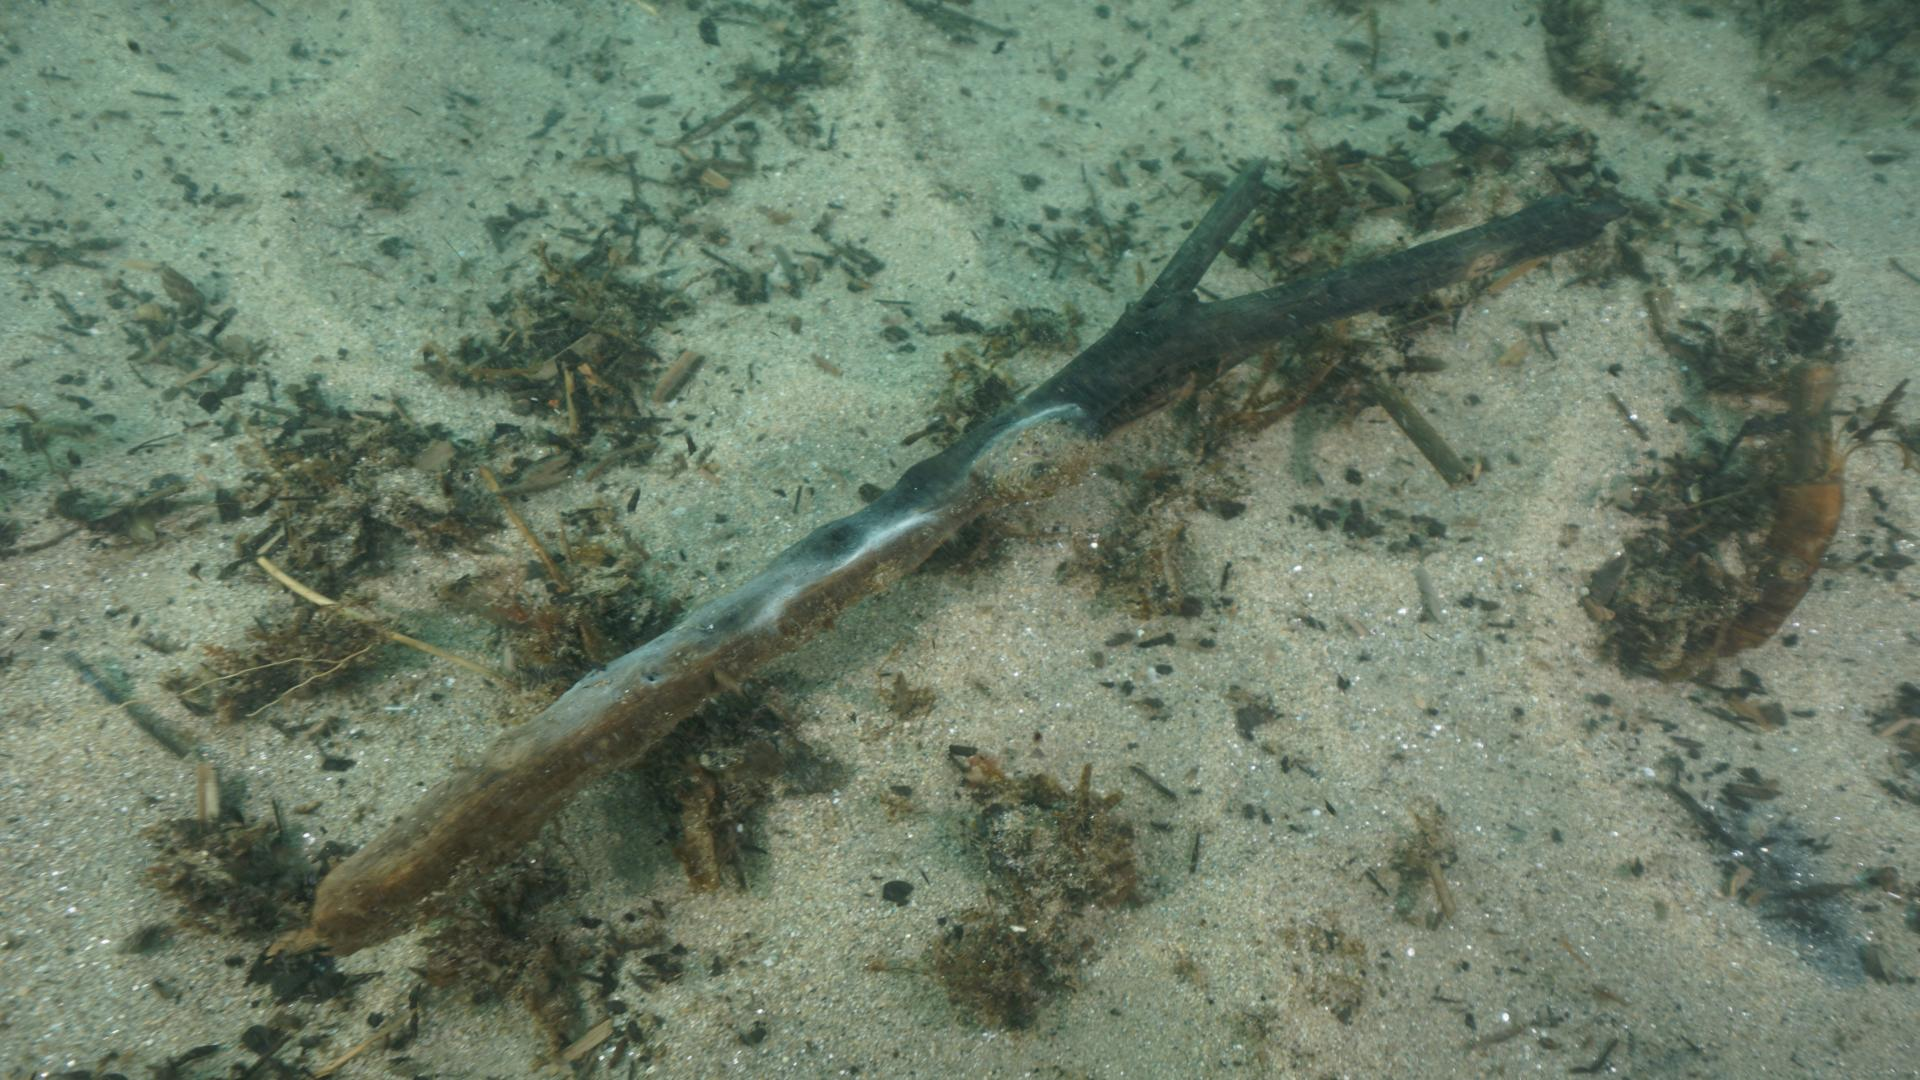wood: (313, 156, 1636, 953)
